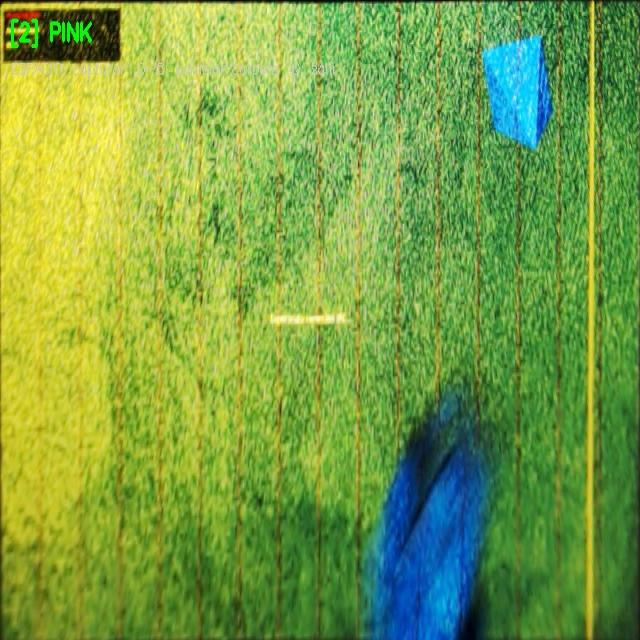pink: (483, 36, 552, 149)
